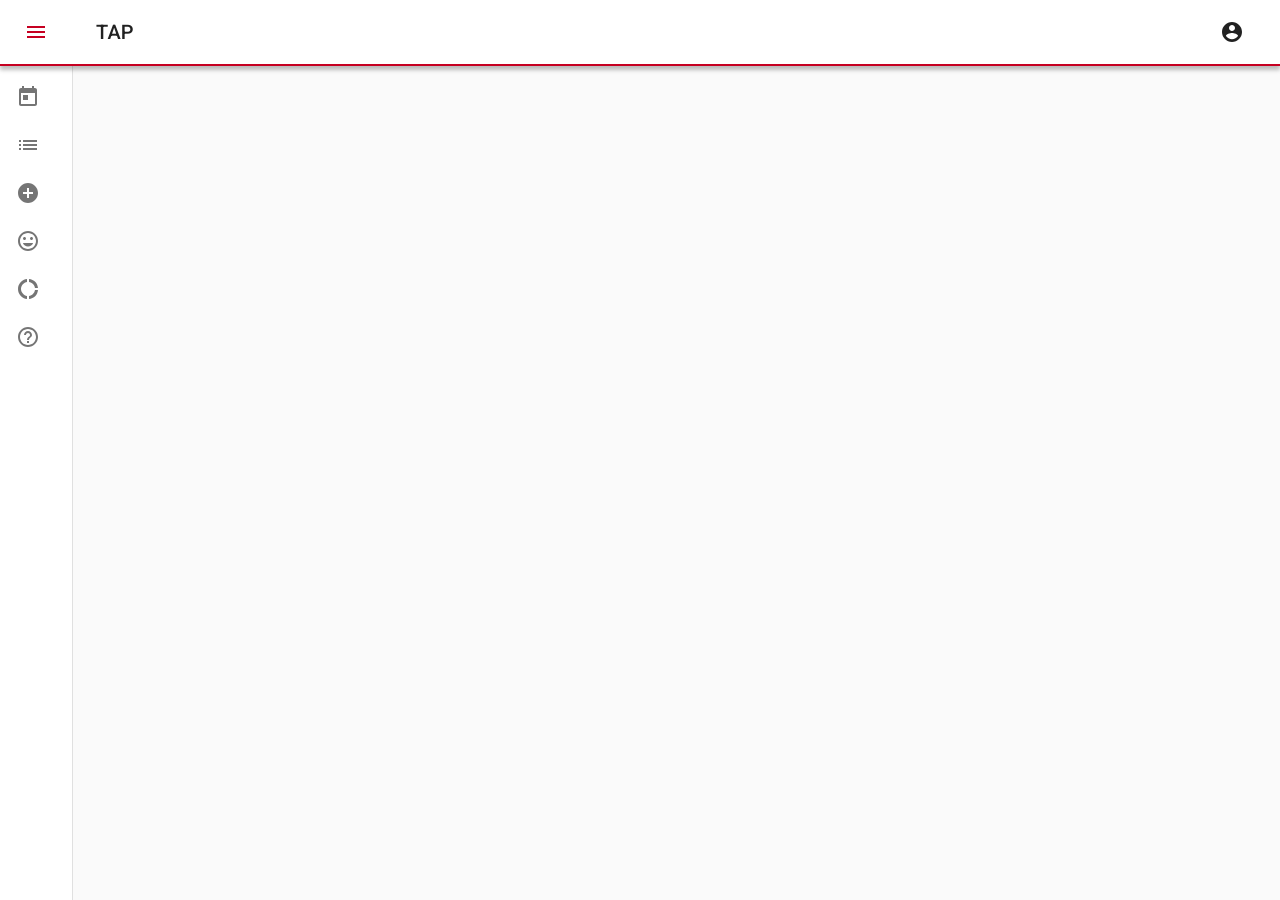
Navigation › should close side menu
Click the button with test id "side-menu-button".
click(36, 32)  # box x1=12 y1=8 x2=60 y2=56
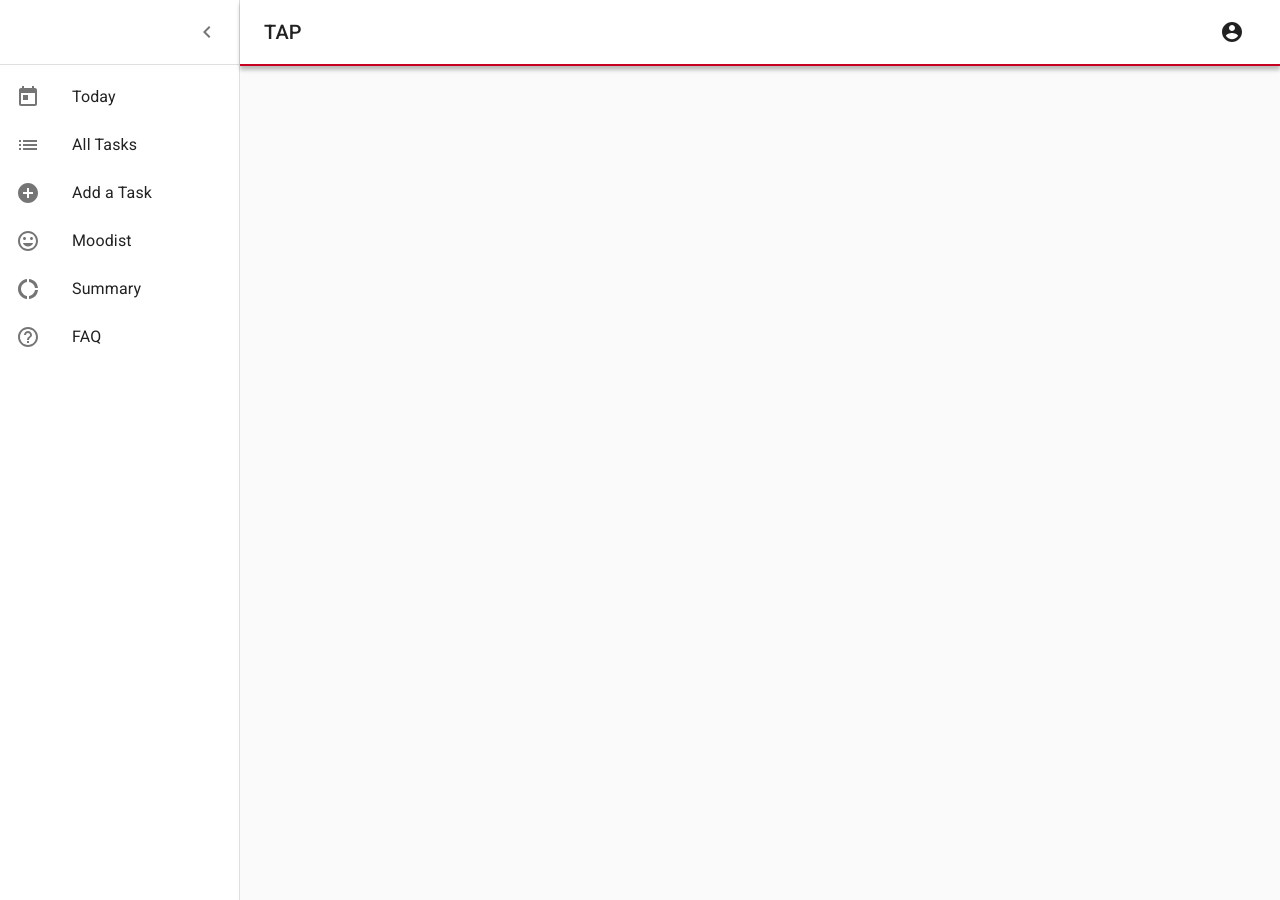
Click the button with test id "today-link".
click(94, 96)  # box x1=16 y1=85 x2=116 y2=109
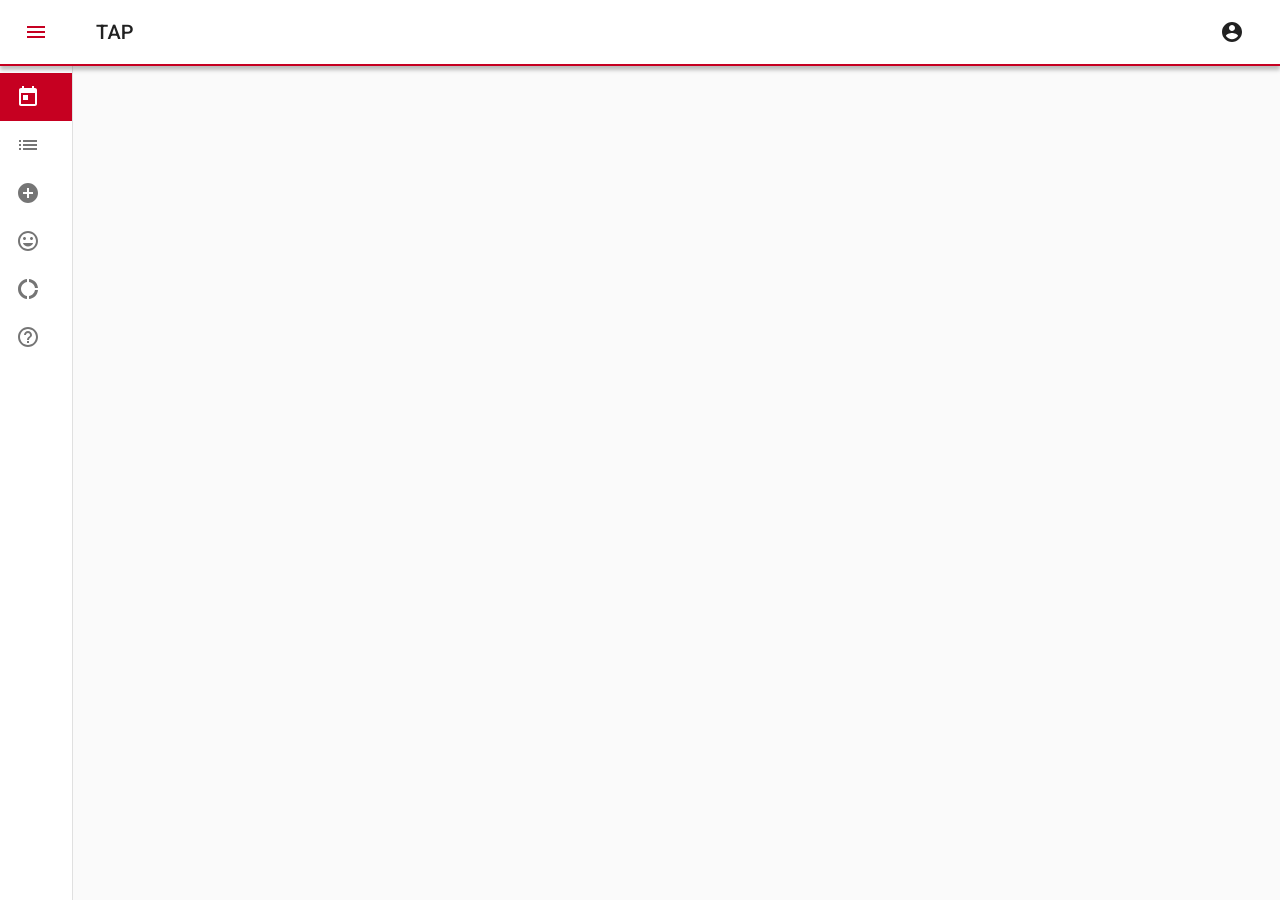
Result: the button with test id "side-menu-button" is shown at x1=12 y1=8 x2=60 y2=56
